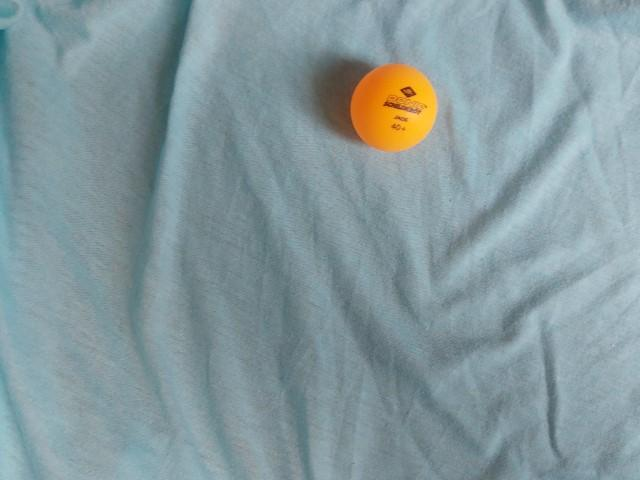oball: (343, 57, 447, 162)
